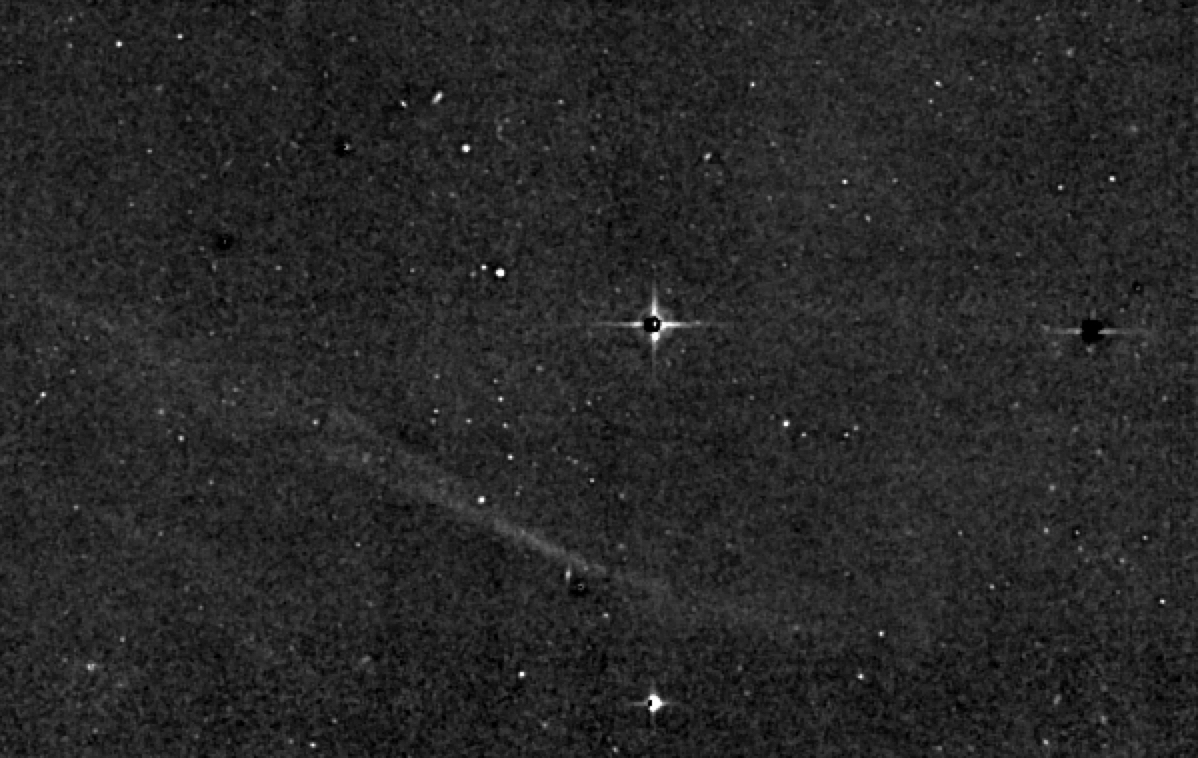Halpha: (29, 259, 910, 691)
